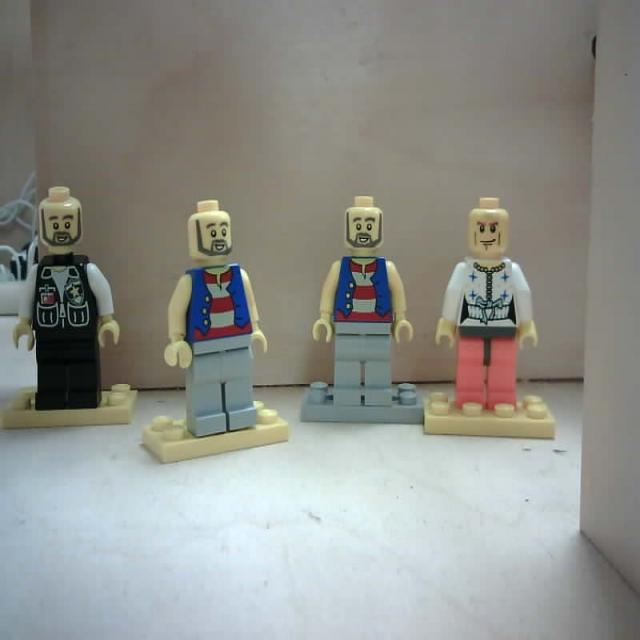Lego-People: (161, 193, 272, 445), (434, 190, 540, 430), (12, 182, 119, 418), (314, 191, 415, 423)
